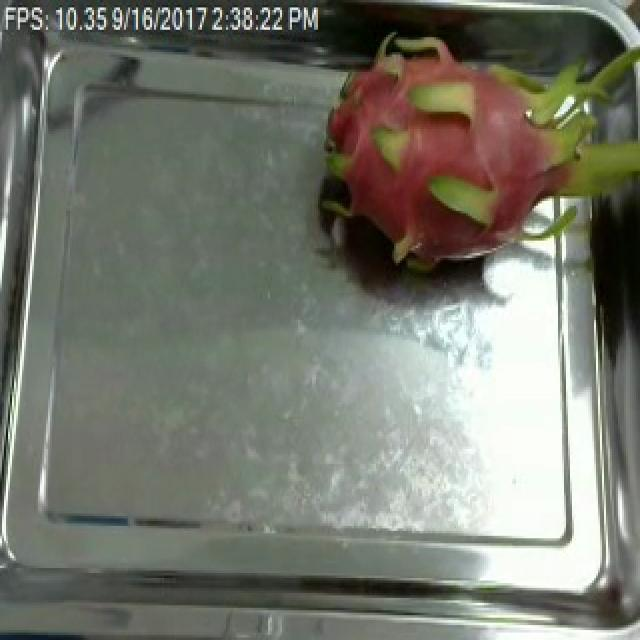fruit: (300, 0, 638, 308)
